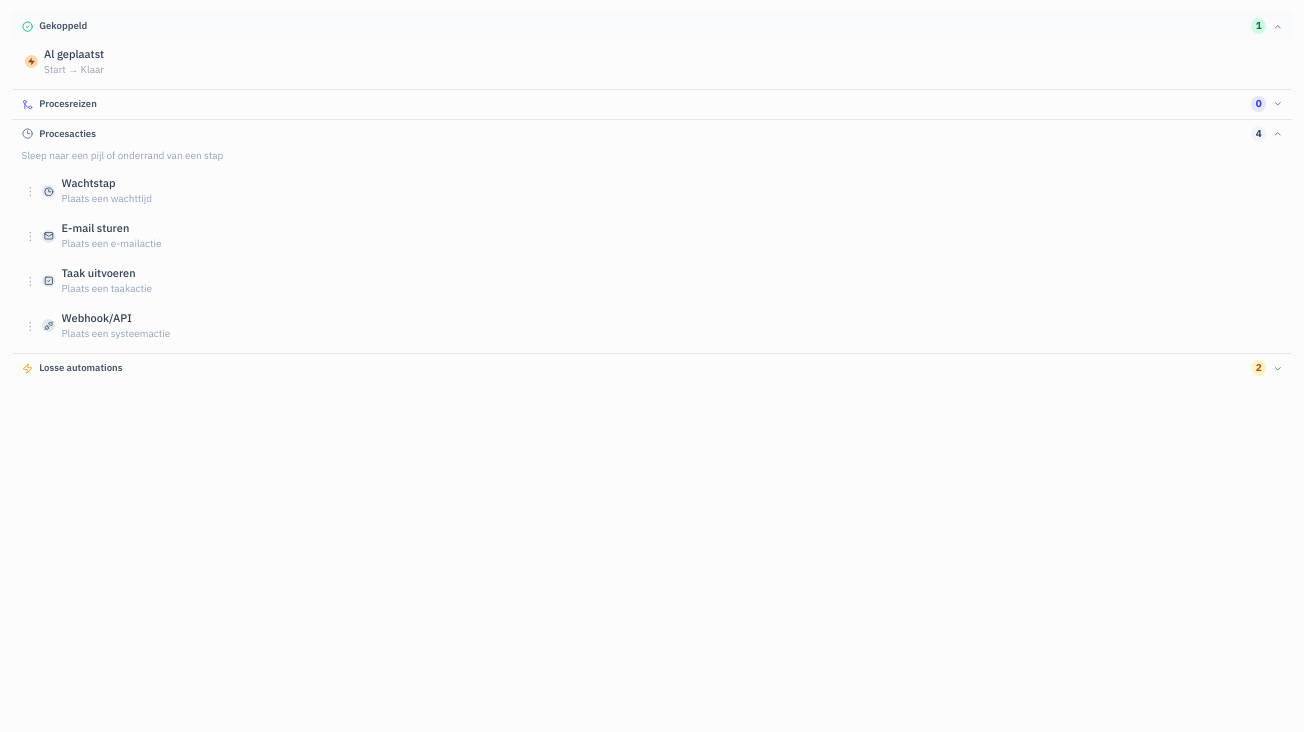
Test: UnassignedPanel automation search › filters loose automations by name, tool, goal, and id
The image size is (1304, 732).
Click the button "Losse automations 2" at (81, 367), box [12,354,1292,383]
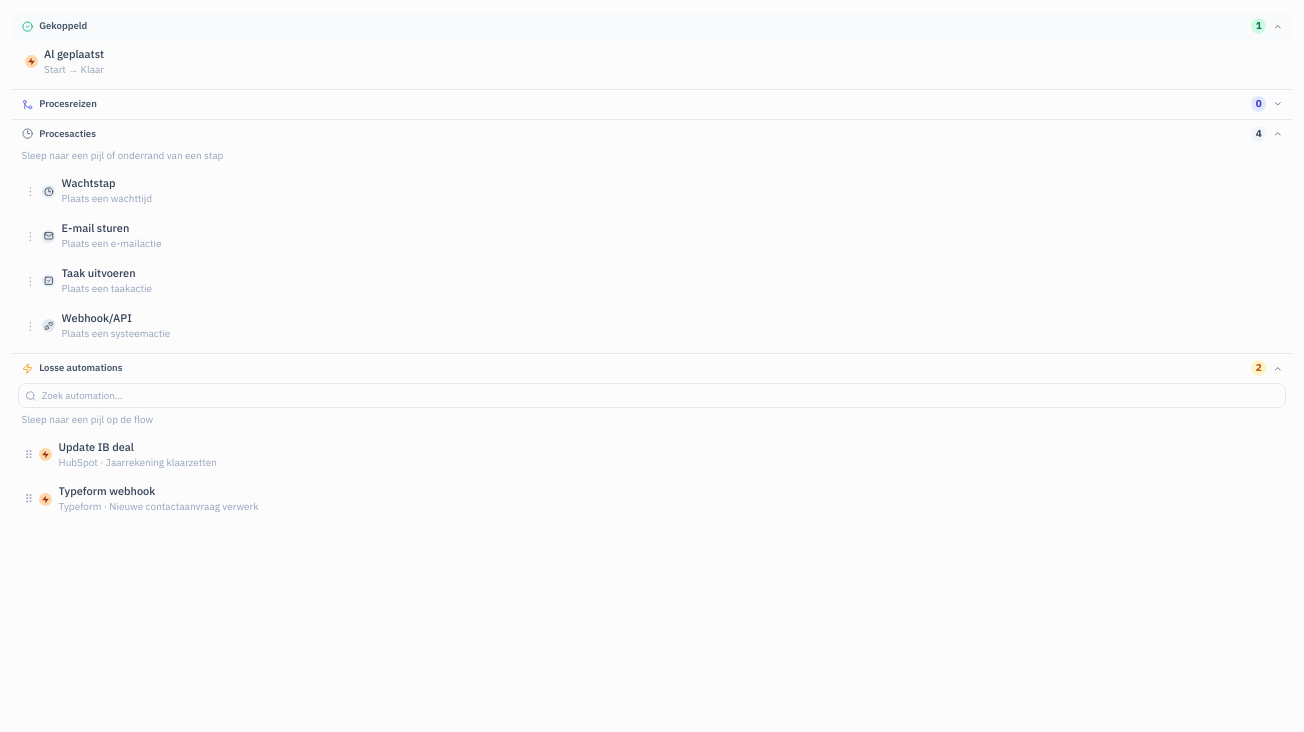
Result: the text "Update IB deal" is shown at [59,440,134,454]
Result: the text "Typeform webhook" is shown at [59,484,155,498]
Type "jaarrekening" into the field with placeholder "Zoek automation..." at (652, 396), box [18,383,1286,408]
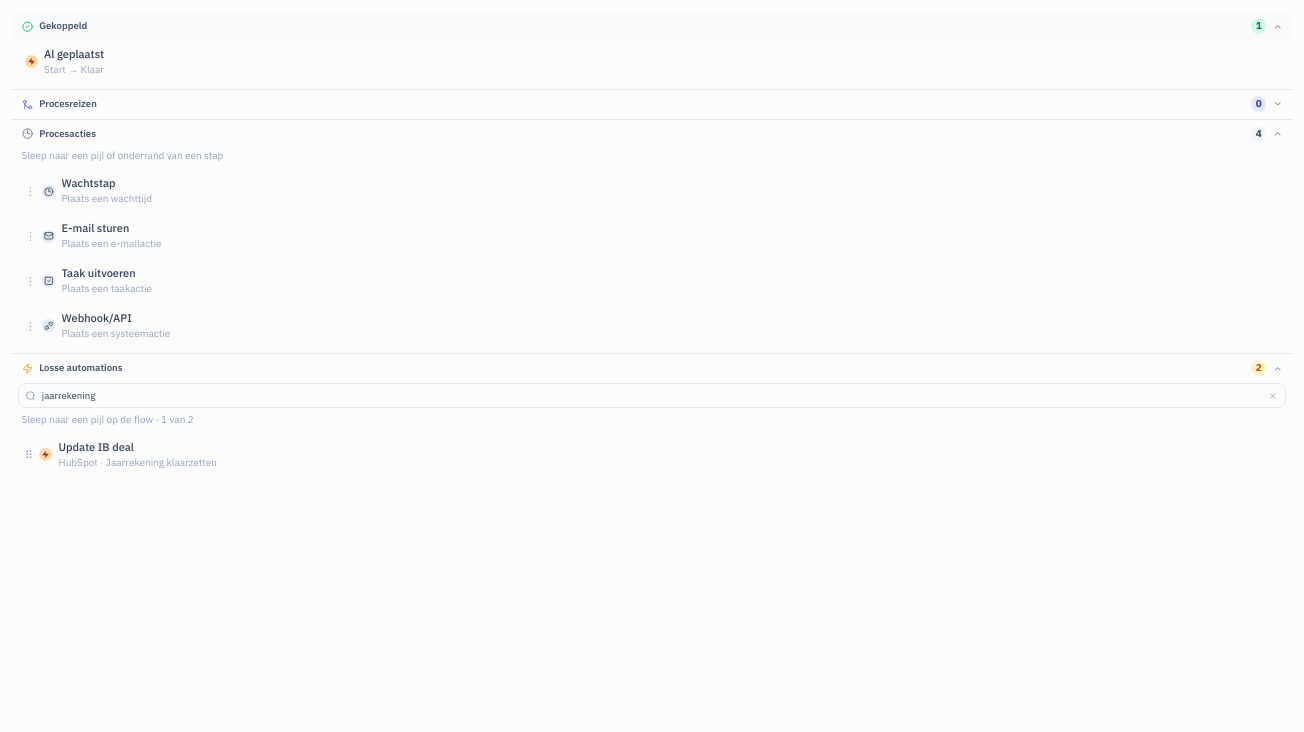
Result: the text "Update IB deal" is shown at [59,440,134,454]
Result: the text "Typeform webhook" is gone
Replace the text in the field with placeholder "Zoek automation..." with "typeform" at (652, 396), box [18,383,1286,408]
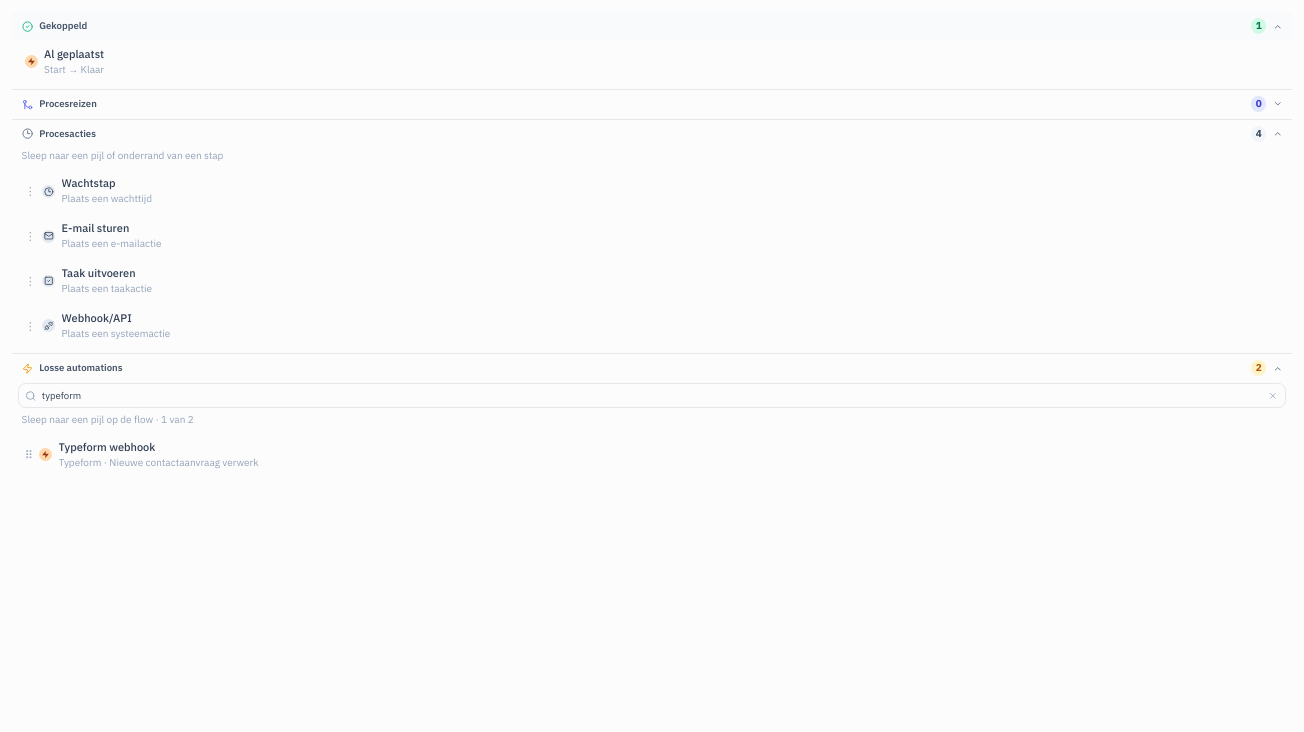
Result: the text "Update IB deal" is gone
Result: the text "Typeform webhook" is shown at [59,440,155,454]
Replace the text in the field with placeholder "Zoek automation..." with "niet-bestaand" at (652, 396), box [18,383,1286,408]
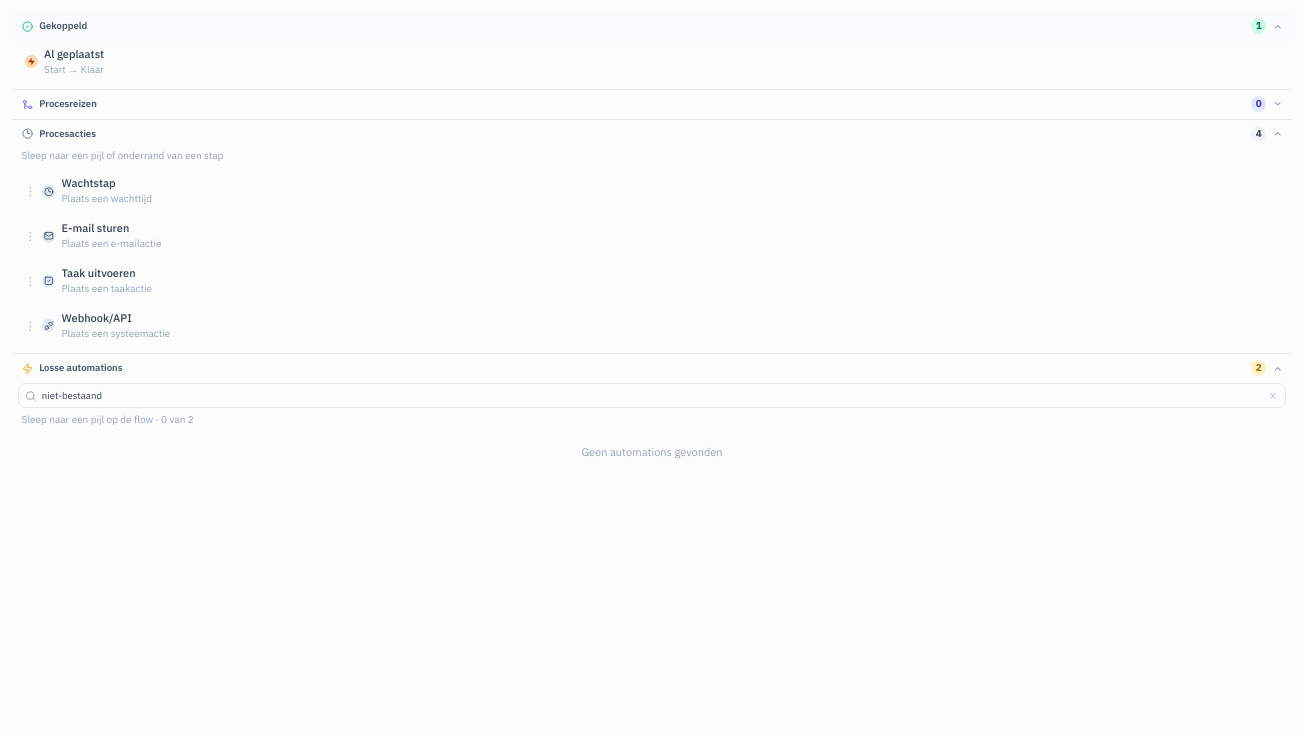
Result: the text "Geen automations gevonden" is shown at [581,444,723,458]
